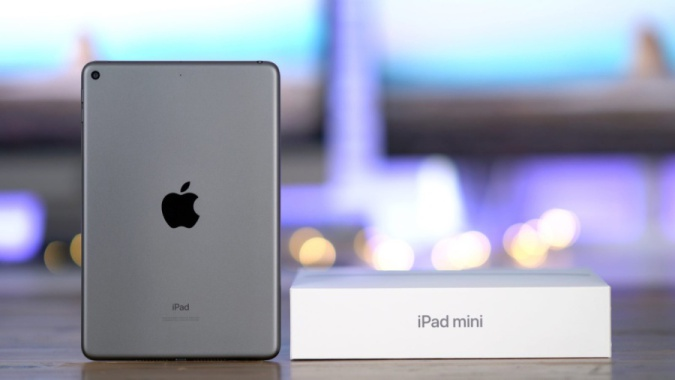apple: (153, 163, 214, 241)
